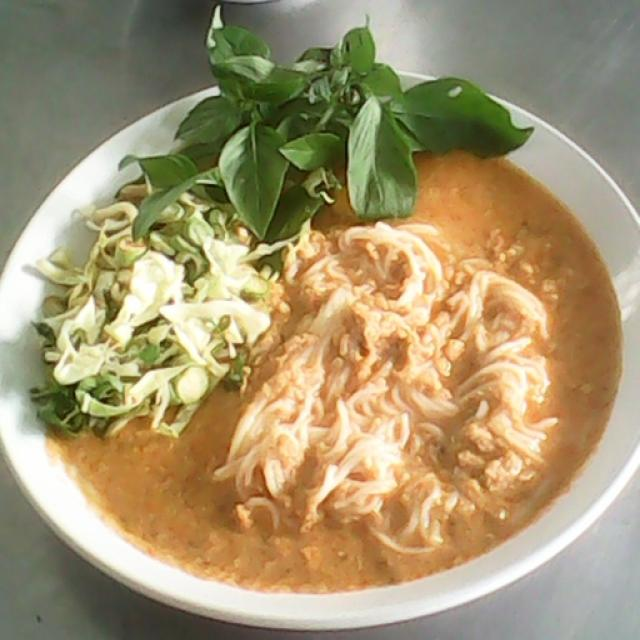面条主食: (4, 21, 630, 631)
